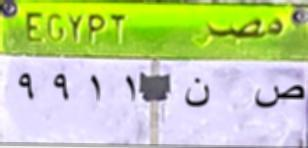1: (87, 73, 104, 107), (124, 74, 138, 104)
9: (53, 68, 72, 105), (16, 72, 37, 103)
noon: (183, 75, 211, 111)
saad: (250, 80, 306, 113)
